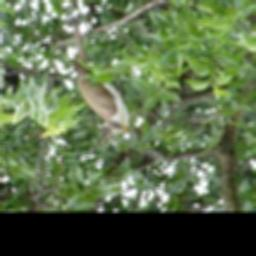Cuckoo: (68, 13, 139, 138)
